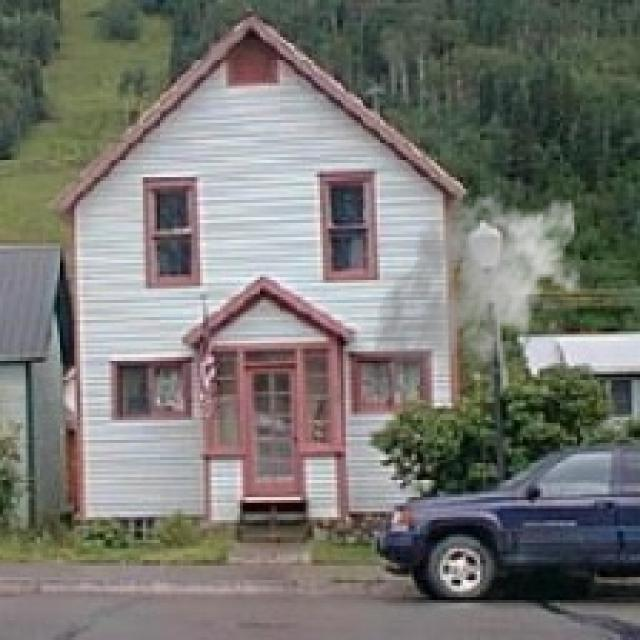smoke: (371, 186, 583, 397)
